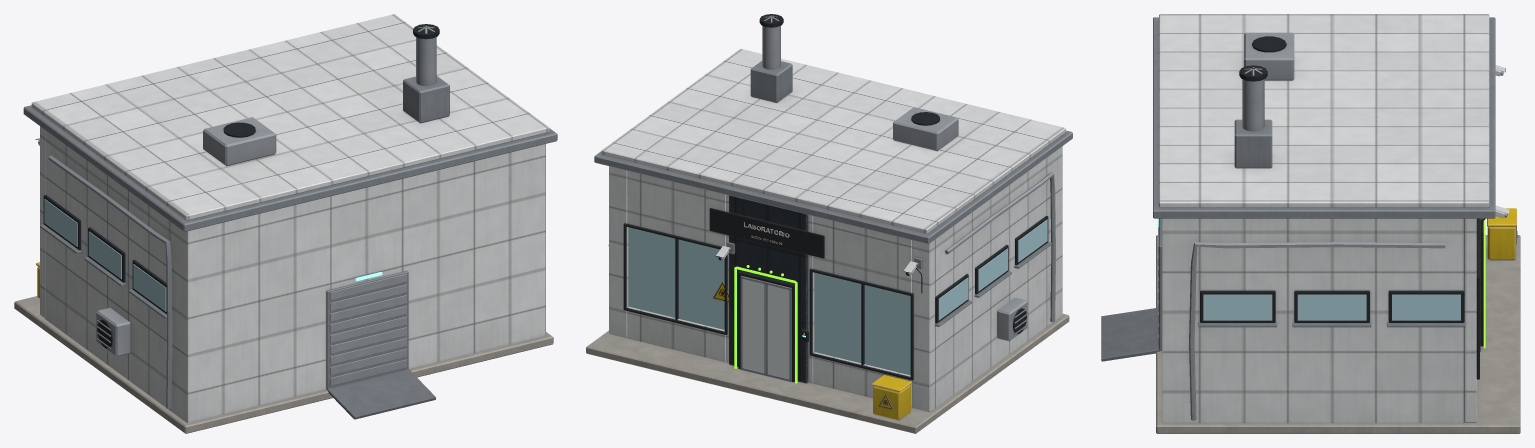
The model's file is laboratorio.fbx.
3 views of the same model, side by side, from view 1: azimuth 30°, elevation 25°; view 2: azimuth 150°, elevation 25°; view 3: azimuth 270°, elevation 25° (orthographic). The views are drawn at different scales.
Parts seen in each view (by area): view 1: laboratorio, laboratorio_cristal; view 2: laboratorio, laboratorio_cristal, laboratorio_puerta_izq_cristal, laboratorio_puerta_der_cristal, laboratorio_descontaminacion_neon, laboratorio_puerta_der, laboratorio_puerta_izq; view 3: laboratorio, laboratorio_cristal.
Part boxes in pixels (box(x1,y1,x2,y2)): laboratorio: box(14, 14, 557, 433); laboratorio_cristal: box(44, 199, 166, 311); laboratorio: box(586, 14, 1072, 433); laboratorio_cristal: box(628, 219, 1047, 375); laboratorio_puerta_izq_cristal: box(743, 279, 764, 372); laboratorio_puerta_der_cristal: box(768, 285, 789, 378); laboratorio_descontaminacion_neon: box(734, 265, 804, 383); laboratorio_puerta_der: box(766, 282, 791, 381); laboratorio_puerta_izq: box(740, 276, 765, 375); laboratorio: box(1101, 14, 1520, 433); laboratorio_cristal: box(1203, 294, 1460, 320).
Size of the model in its own units: 15.04 by 11.4 by 13.34.
7 materials, 1 textured.
